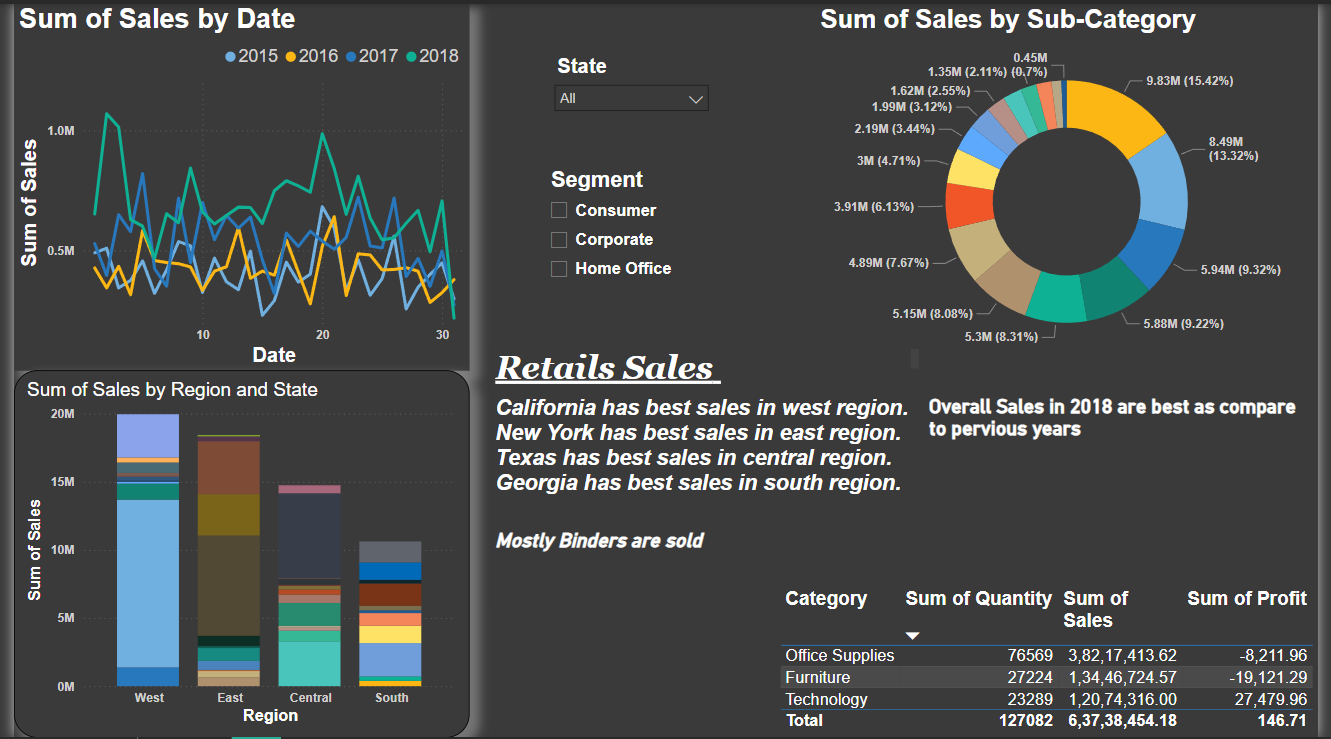

What the dashboard file says about the page in this screenshot:
{"tool":"powerbi","page":{"name":"Page 1","canvas":[1280,720],"ordinal":0},"visuals":[{"type":"lineChart","title":"Sum of Sales by Date","fields":{"Y":["Sum(sales data.Sales)"],"Series":["sales data.Year order_year"],"Category":["sales data.Order Date.Variation.Date Hierarchy.Day"]},"box":[0,0,447.1,360],"z":0},{"type":"columnChart","fields":{"Y":["Sum(sales data.Sales)"],"Category":["sales data.Region"],"Series":["sales data.State"]},"box":[0,359.5,447.3,360.9],"z":1000},{"type":"donutChart","fields":{"Y":["Sum(sales data.Sales)"],"Category":["sales data.Sub-Category"]},"box":[786.3,0,494,359.5],"z":2000},{"type":"tableEx","fields":{"Values":["sales data.Category","Sum(sales data.Quantity)","Sum(sales data.Sales)","Sum(sales data.Profit)"]},"box":[746.5,566.7,533.8,153.7],"z":3000},{"type":"slicer","fields":{"Values":["sales data.State"]},"box":[520.1,43.9,171.5,74.1],"z":4000},{"type":"slicer","fields":{"Values":["sales data.Segment"]},"box":[514.6,156.4,231.9,149.6],"z":5000},{"type":"textbox","box":[467.7,333.4,425.4,47.3],"z":6000},{"type":"textbox","box":[467.7,379.4,425.4,130.6],"z":7000},{"type":"textbox","box":[893.2,379.4,386.9,53.5],"z":8000},{"type":"textbox","box":[467.7,510,223.9,80.9],"z":9000}]}

Visuals, with their boxes in screenshot pixels (x1, y1, x2, y2), scaled from the page's 1280x720 canvas onto the 1331x739 screenshot:
"Sum of Sales by Date" lineChart: box(0, 0, 465, 369)
columnChart - Sum(sales data.Sales) x sales data.Region: box(0, 369, 465, 738)
donutChart - Sum(sales data.Sales) x sales data.Sub-Category: box(818, 0, 1330, 369)
tableEx - sales data.Category x Sum(sales data.Quantity): box(776, 582, 1330, 738)
slicer - sales data.State: box(541, 45, 719, 121)
slicer - sales data.Segment: box(535, 161, 776, 314)
textbox: box(486, 342, 929, 391)
textbox: box(486, 389, 929, 523)
textbox: box(929, 389, 1330, 444)
textbox: box(486, 523, 719, 606)
